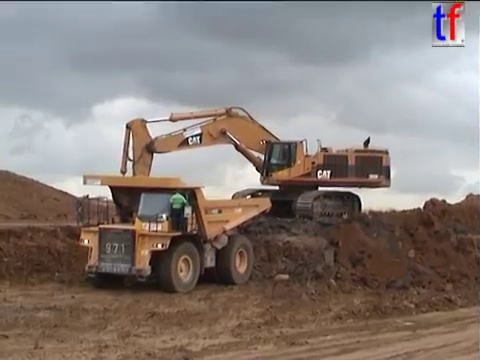excavator: (113, 104, 394, 235)
truck: (74, 172, 274, 294)
worker: (167, 187, 188, 231)
